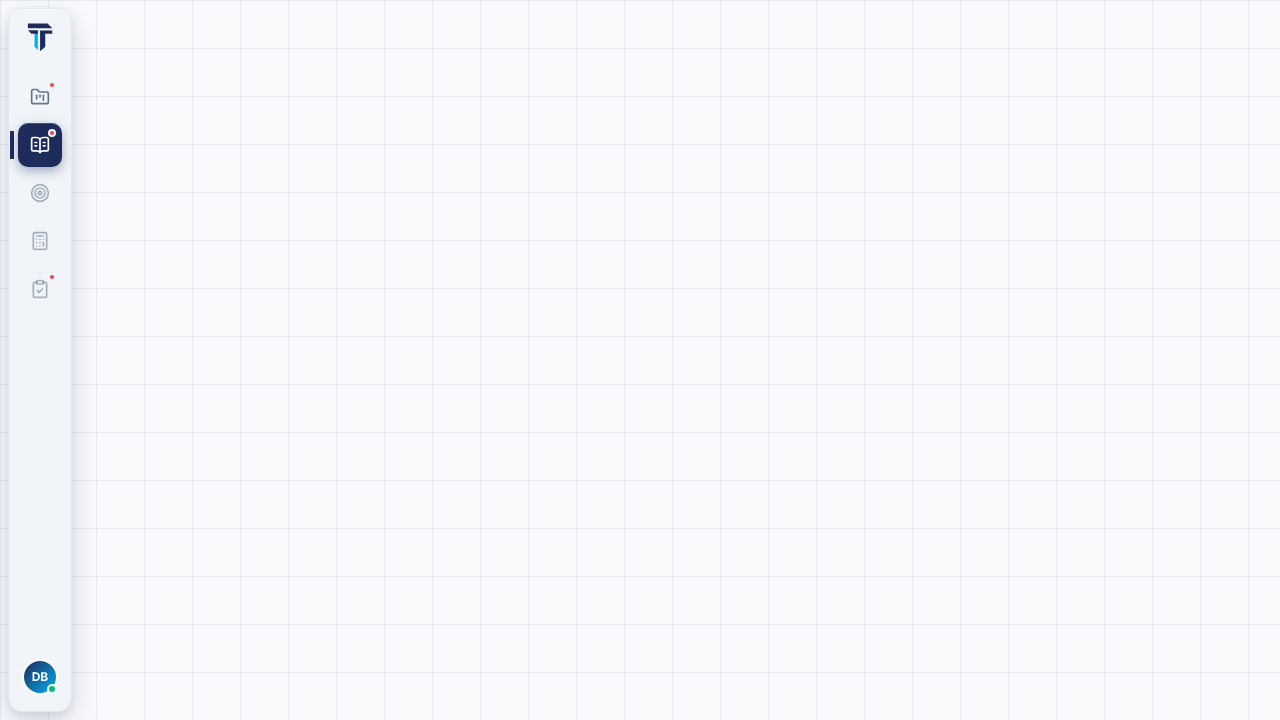
Test: SidebarRailPanel › collapses an unpinned panel after an outside click
Click the button named "Accounting". click: (40, 145)
box: left=18, top=123, right=62, bottom=167
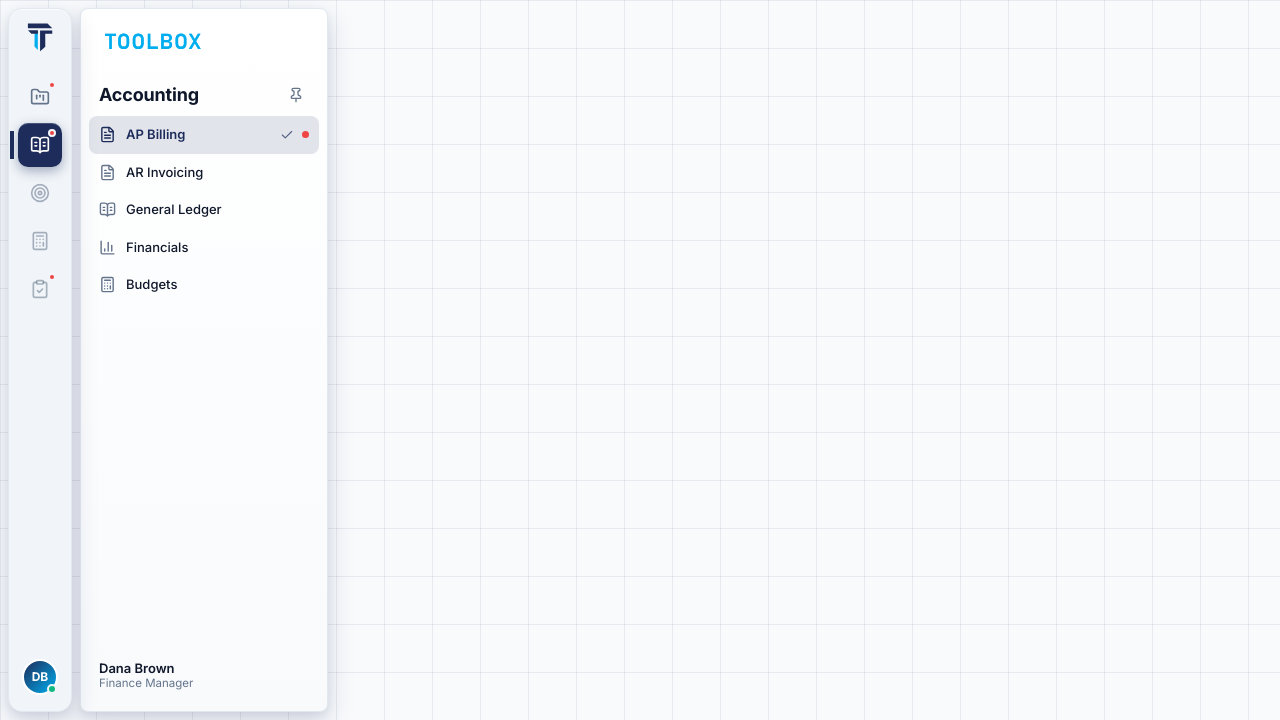
Result: the heading "Accounting" is shown at left=99, top=81, right=199, bottom=108
Press the mouse on the element that starts with "Accounting" at (640, 360), box left=0, top=8, right=1279, bottom=712
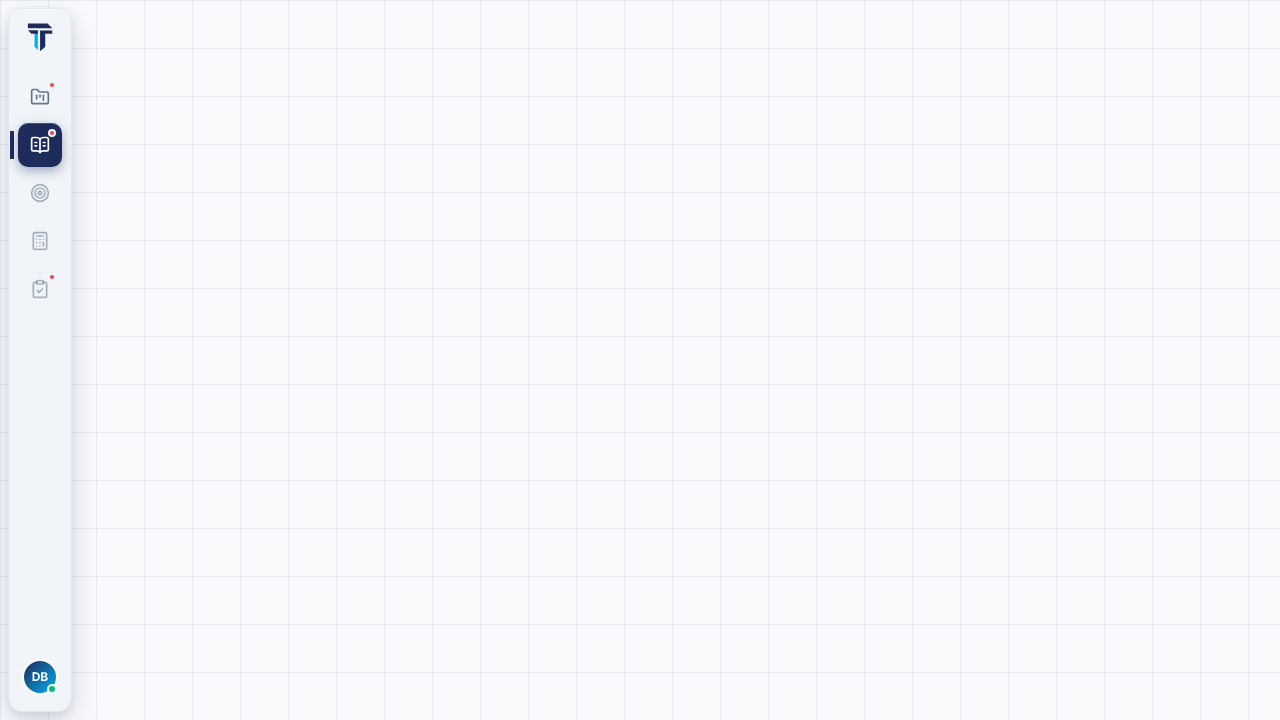
Result: the heading "Accounting" is gone
